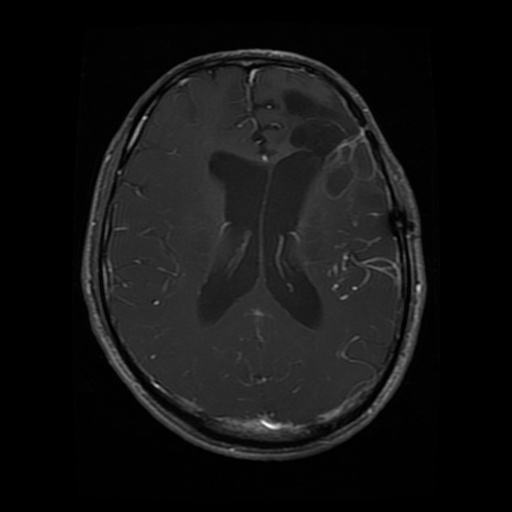glioma: (279, 89, 378, 200)
